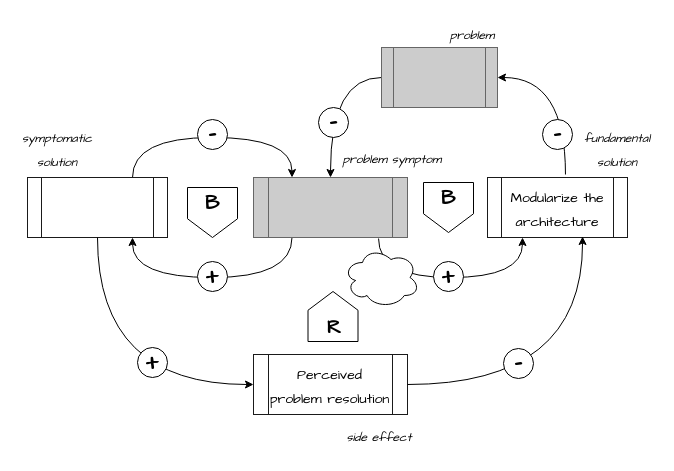
The diagram is 674 pixels wide and 471 high, and some of its shapes have lost their labels. The shapes that lost their labels are listed below. From the top down, each one's box as (x1, y1, x2, y2) in pixels, then its label:
(380, 46, 498, 108): Accidental complexity
(26, 176, 168, 238): Throw tech at the problem
(252, 176, 408, 238): Platform's value delivery rate slow down
(342, 246, 420, 308): delay
